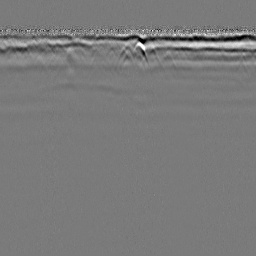cavity: (117, 47, 135, 67)
